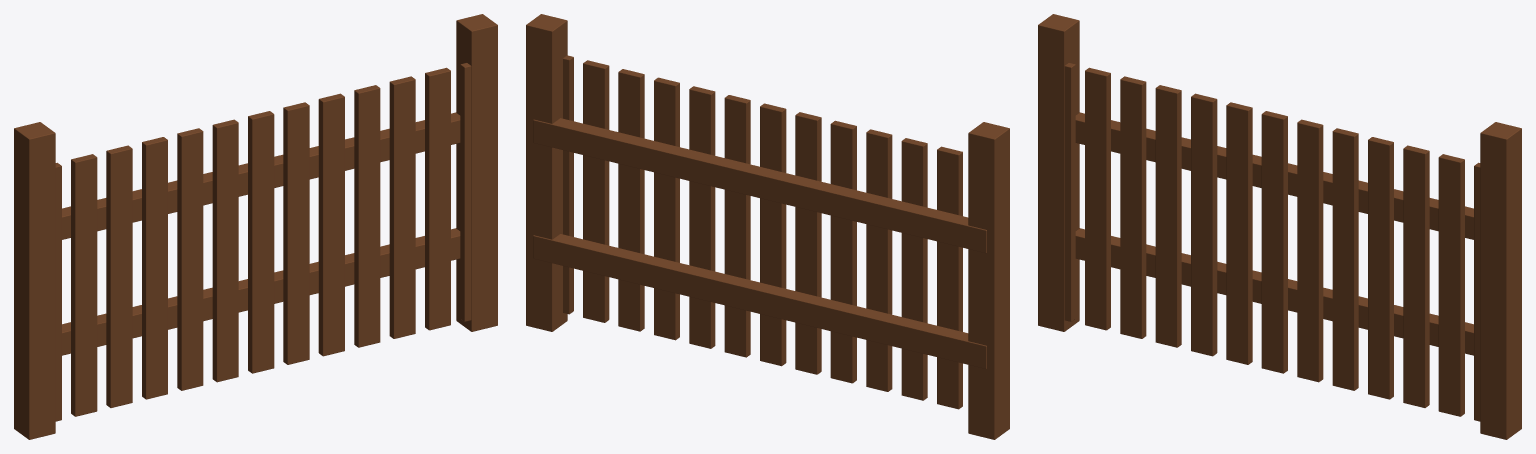
File: village-wooden-fence.glb
3 views of the same model, side by side, from view 1: azimuth 30°, elevation 25°; view 2: azimuth 150°, elevation 25°; view 3: azimuth 330°, elevation 25° (orthographic).
Visible parts, largest first — view 1: Post, Post.001, Picket_8, Picket_7, Picket_9, Picket_1, Picket_10, Picket_2, Picket_4, Picket_5, Picket_6, Picket_11 (+5 smaller); view 2: Rail.001, Rail, Post, Post.001, Picket_7, Picket_8, Picket_6, Picket_10, Picket_5, Picket_2, Picket_4, Picket_11 (+4 smaller); view 3: Post.001, Post, Picket_4, Picket_3, Picket_5, Picket_10, Picket_11, Picket_2, Picket_7, Picket_8, Picket_6, Picket_1 (+5 smaller).
Part boxes in pixels (x1,y1,x2,y2): Post: [14, 122, 55, 439]; Post.001: [456, 14, 497, 331]; Picket_8: [318, 93, 344, 356]; Picket_7: [283, 102, 309, 364]; Picket_9: [354, 85, 380, 347]; Picket_1: [71, 154, 97, 416]; Picket_10: [389, 76, 415, 338]; Picket_2: [106, 145, 132, 407]; Picket_4: [177, 128, 203, 390]; Picket_5: [212, 119, 238, 382]; Picket_6: [248, 111, 274, 373]; Picket_11: [425, 67, 450, 330]; Rail.001: [533, 118, 986, 253]; Rail: [533, 234, 986, 368]; Post: [968, 122, 1009, 439]; Post.001: [526, 14, 567, 331]; Picket_7: [724, 95, 750, 357]; Picket_8: [689, 86, 715, 348]; Picket_6: [760, 103, 786, 366]; Picket_10: [618, 69, 644, 331]; Picket_5: [795, 112, 821, 374]; Picket_2: [901, 138, 927, 400]; Picket_4: [830, 120, 856, 383]; Picket_11: [583, 60, 609, 322]; Post.001: [1480, 122, 1521, 439]; Post: [1038, 14, 1079, 331]; Picket_4: [1191, 93, 1217, 356]; Picket_3: [1155, 85, 1181, 347]; Picket_5: [1226, 102, 1252, 364]; Picket_10: [1403, 145, 1429, 407]; Picket_11: [1438, 154, 1464, 416]; Picket_2: [1120, 76, 1146, 338]; Picket_7: [1297, 119, 1323, 382]; Picket_8: [1332, 128, 1358, 390]; Picket_6: [1261, 111, 1287, 373]; Picket_1: [1085, 67, 1110, 330].
Size of the model in its own units: 2.12 by 1.3 by 0.125.
